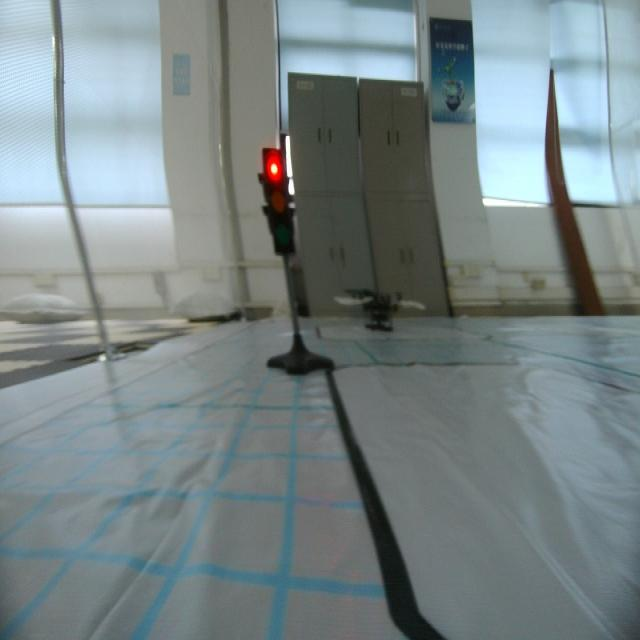red: (256, 143, 295, 255)
